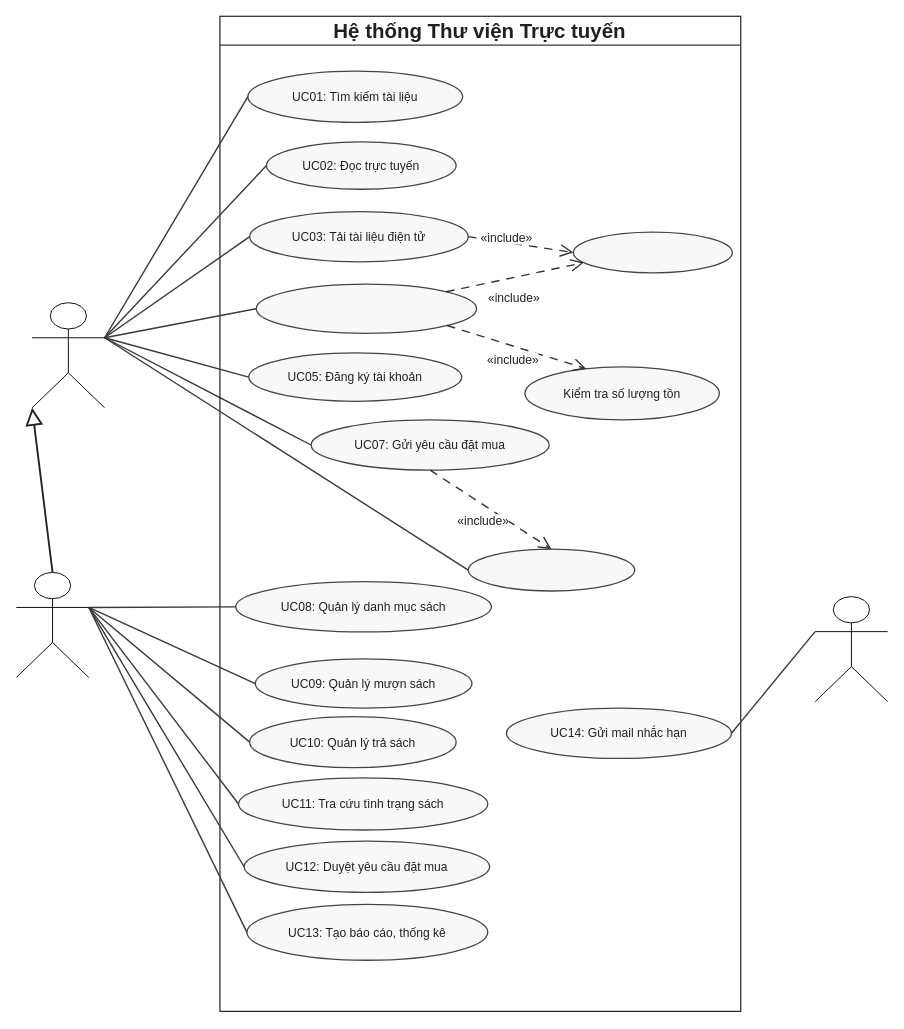
Image size: 904x1029. Some labels were removed from this diagram. The shapes that lost their labels are listed below. From the top down, each one's centre as x and y in pixels, then its label:
point (652, 252): Xác thực mã thẻ
point (366, 308): UC04: Đăng ký mượn sách
point (68, 355): Độc giả
point (551, 569): UC06: Đăng nhập
point (52, 624): Thủ thư
point (851, 649): Hệ thống (Timer)
